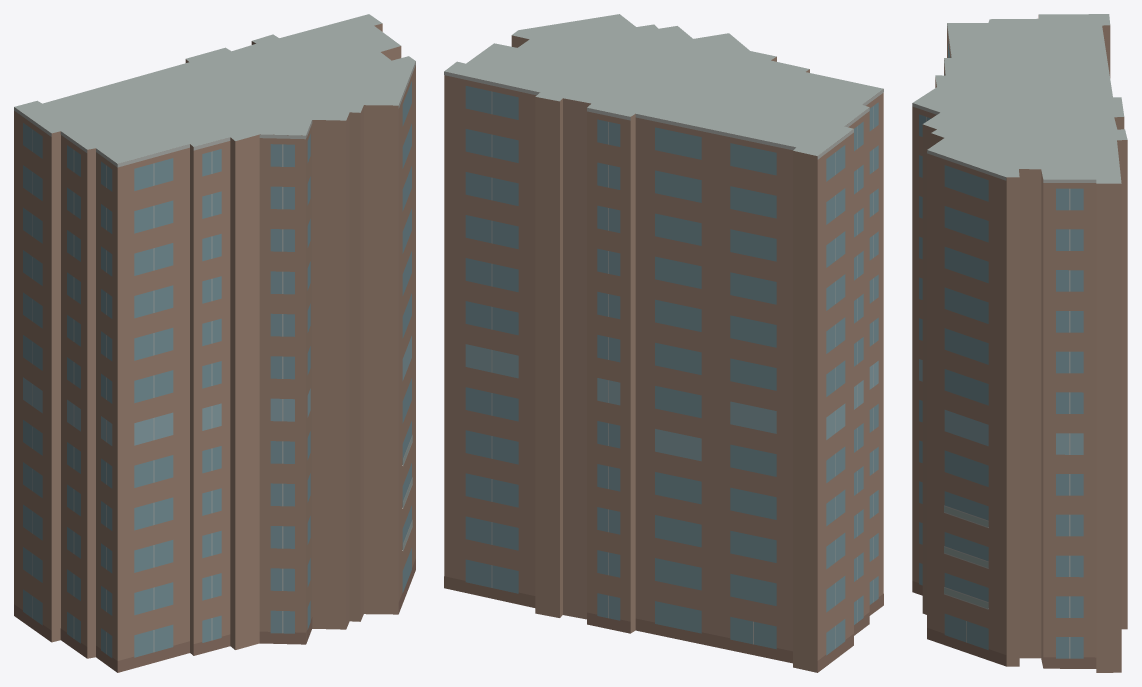
The model's file is survey-upis-32736333.glb.
3 views of the same model, side by side, from view 1: azimuth 30°, elevation 25°; view 2: azimuth 150°, elevation 25°; view 3: azimuth 270°, elevation 25° (orthographic). The views are drawn at different scales.
Visible parts, largest first — view 1: survey-upis-32736333.tmp; view 2: survey-upis-32736333.tmp; view 3: survey-upis-32736333.tmp.
Part boxes in pixels (box(x1,y1,x2,y2)): survey-upis-32736333.tmp: box(14, 14, 415, 672); survey-upis-32736333.tmp: box(444, 14, 883, 672); survey-upis-32736333.tmp: box(912, 14, 1127, 672).
Bounding box in the file's own units: 25.38 × 34.1 × 13.6.
